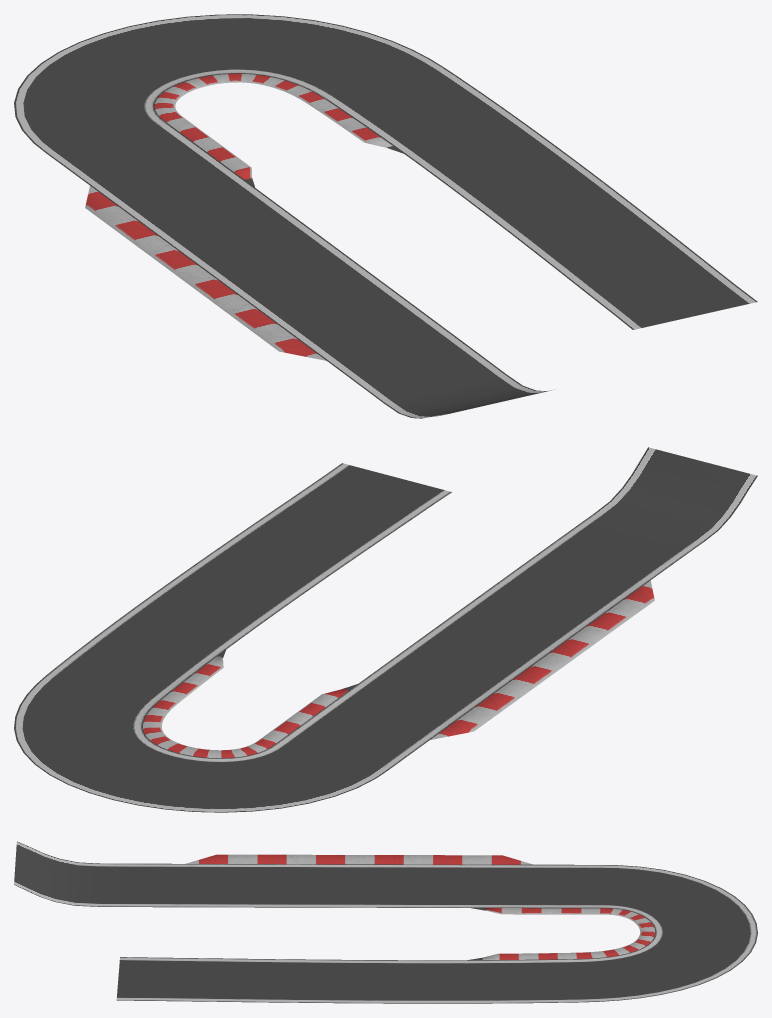
Rendered from sm_road.004.fbx.
3 views of the same model, one above another, from view 1: azimuth 30°, elevation 25°; view 2: azimuth 150°, elevation 25°; view 3: azimuth 270°, elevation 25° (orthographic). The views are drawn at different scales.
Parts seen in each view (by area): view 1: sm_road.016; view 2: sm_road.016; view 3: sm_road.016.
Boxes of the visible parts, x1,y1,x2,y2 form: sm_road.016: [14, 14, 757, 418]; sm_road.016: [14, 447, 757, 812]; sm_road.016: [14, 841, 757, 1003].
Bounding box in the file's own units: 50.41 × 3.48 × 106.
